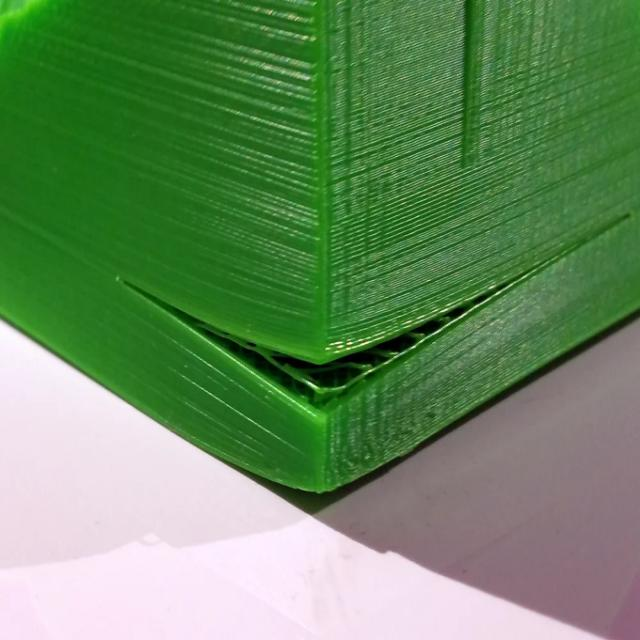Warping: (256, 352, 402, 421), (258, 456, 342, 510)
